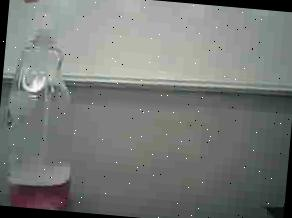hazard: (0, 0, 105, 213)
